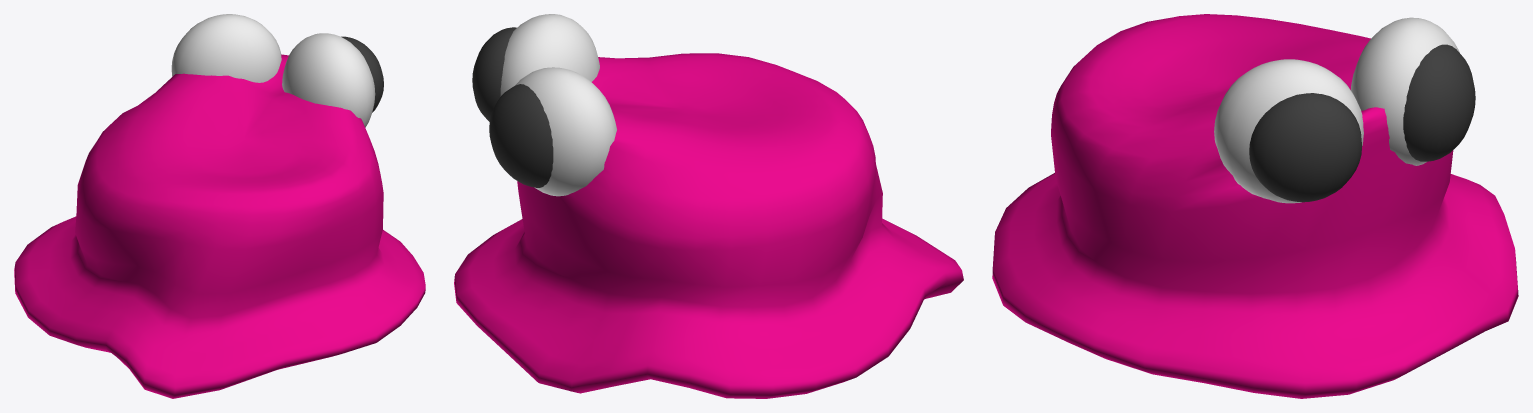
Rendered from SLIME_ROSE.fbx.
The picture shows the model from 3 angles, left to right: view 1: azimuth 30°, elevation 25°; view 2: azimuth 150°, elevation 25°; view 3: azimuth 270°, elevation 25°; orthographic projection. The views are drawn at different scales.
Visible parts, largest first — view 1: SLIME1; view 2: SLIME1; view 3: SLIME1.
Part boxes in pixels (x1=…): SLIME1: x1=14, y1=14, x2=425, y2=398; SLIME1: x1=454, y1=14, x2=963, y2=398; SLIME1: x1=992, y1=14, x2=1518, y2=398.
Bounding box in the file's own units: 181 × 134 × 179.
